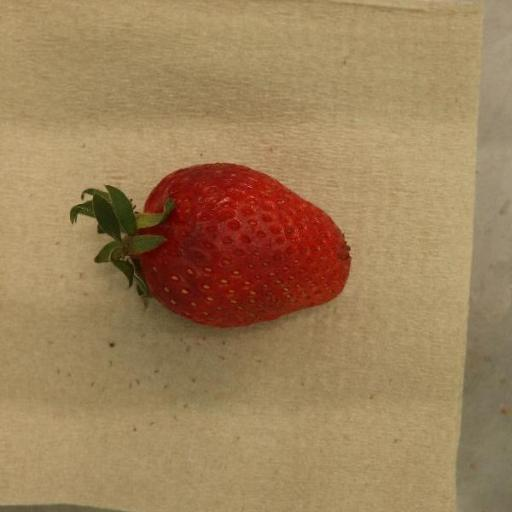Strawberry: (69, 163, 352, 330)
